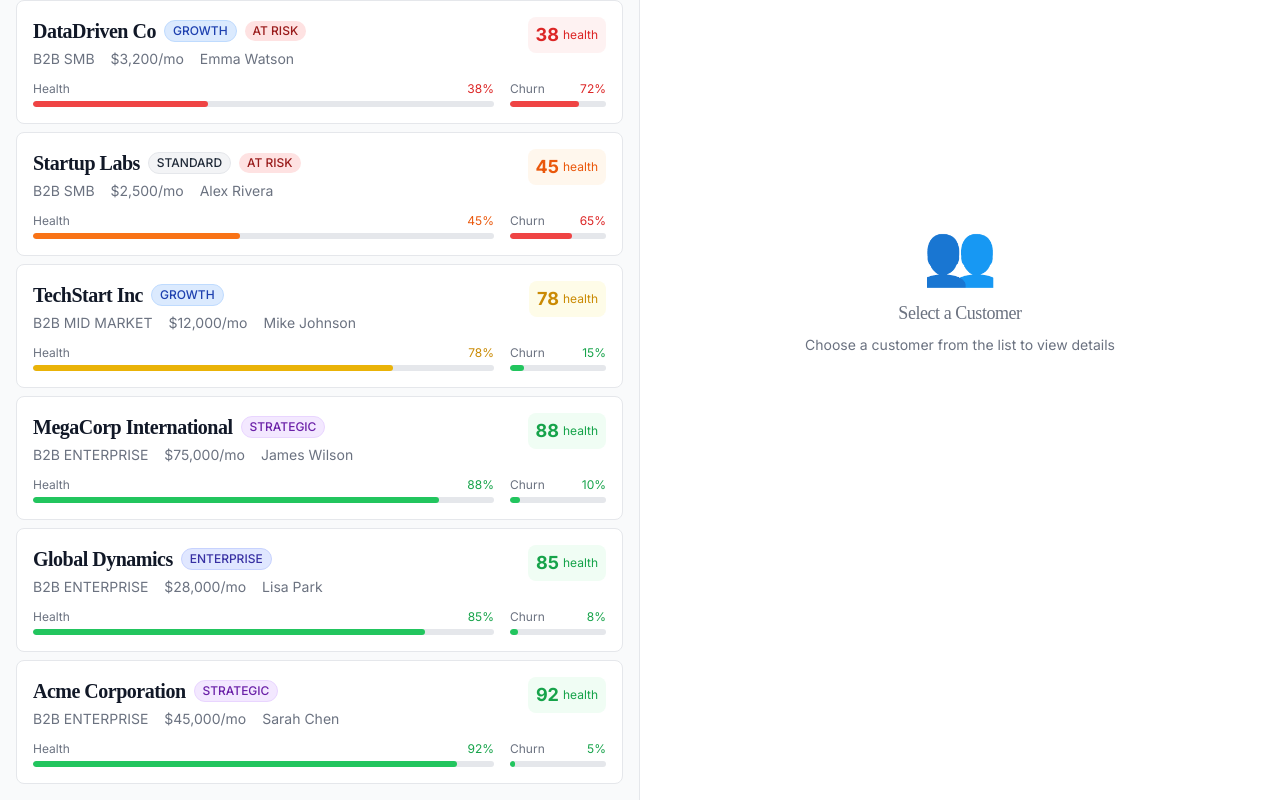
Test: CustomersView › shows customer detail when clicking a customer
(page scrolled)
// Click on a customer
Click the heading "Acme Corporation": [109, 691] box [33, 677, 186, 705]
(page scrolled)
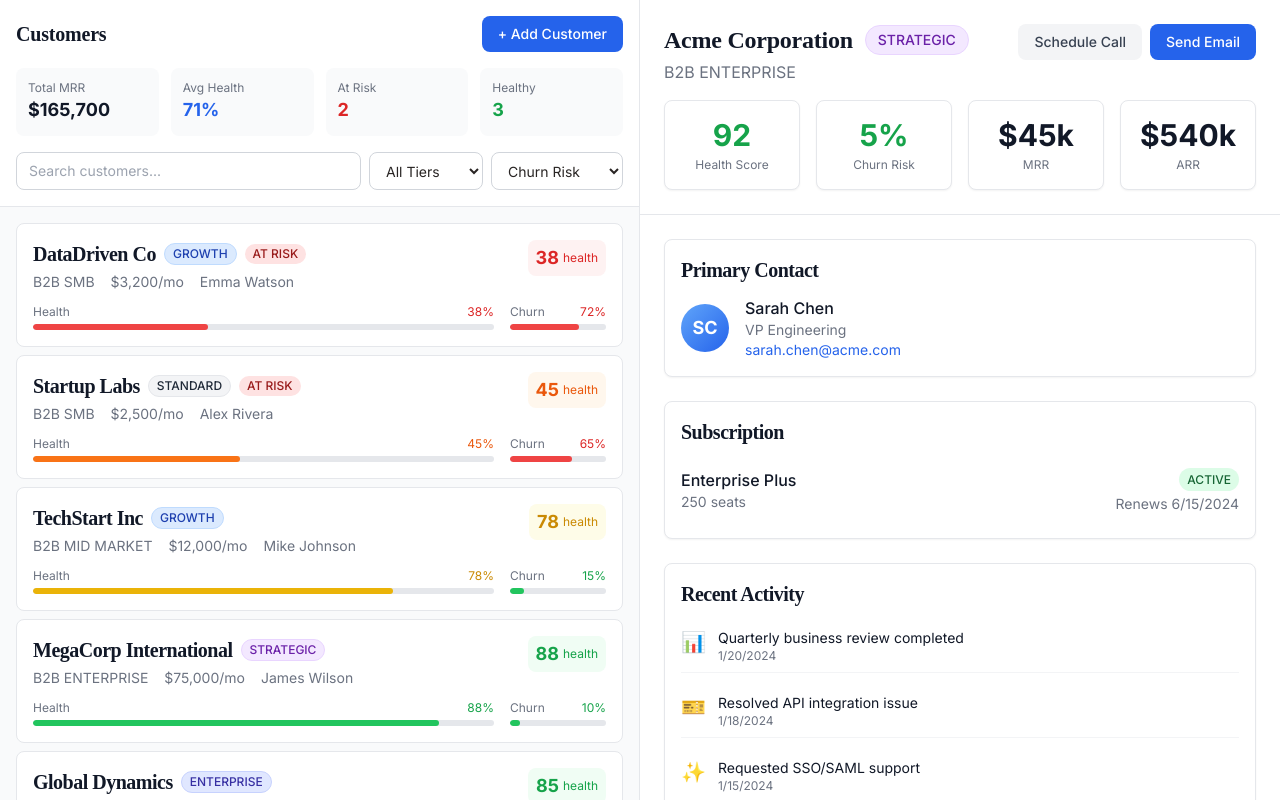
Expected: the text "ARR" is shown, [1176, 157, 1200, 172]
